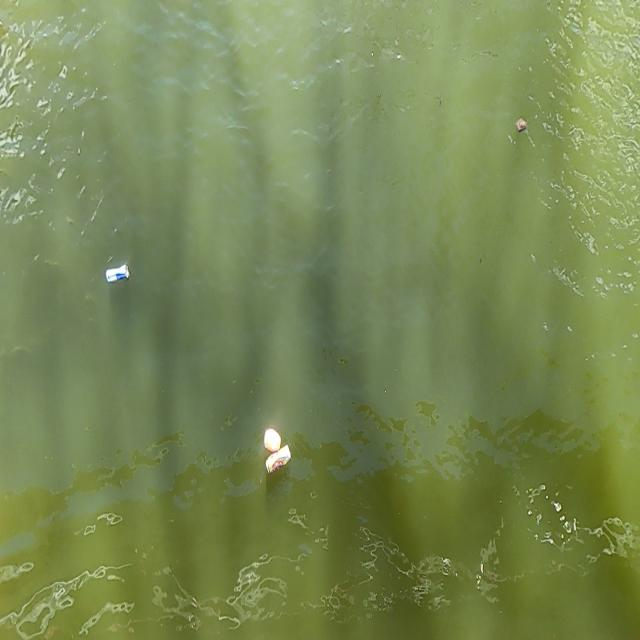Non plastique: (95, 258, 137, 286), (263, 448, 299, 480), (257, 425, 283, 451)
